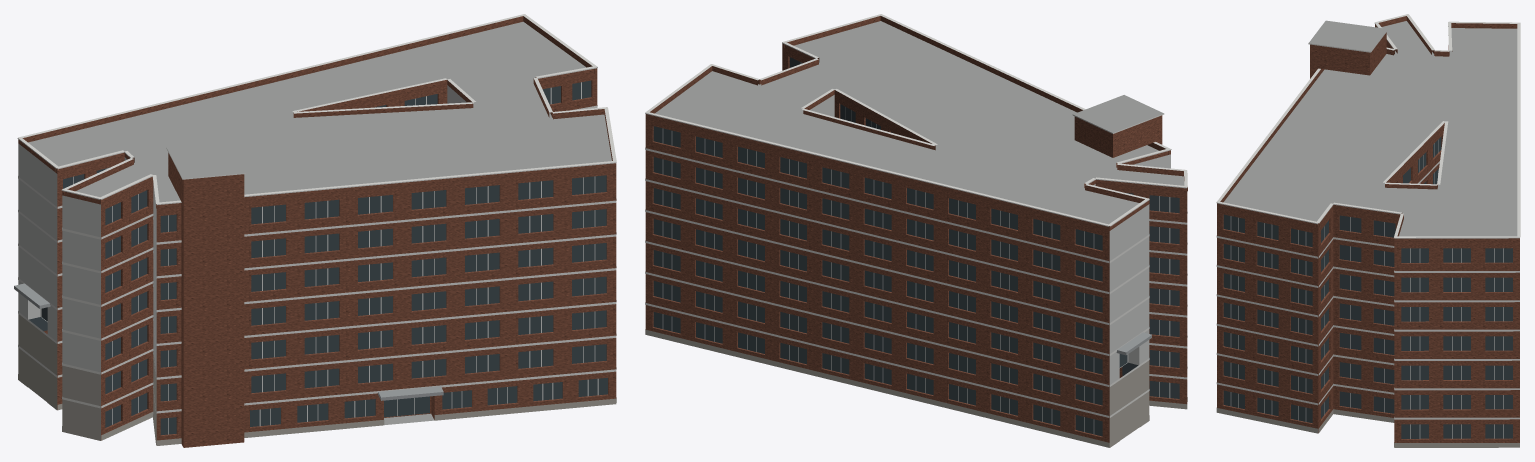
3 renders of one model, left to right at view 1: azimuth 30°, elevation 25°; view 2: azimuth 150°, elevation 25°; view 3: azimuth 270°, elevation 25°, orthographic. The views are drawn at different scales.
Parts seen in each view (by area): view 1: surim__wall, surim__roof, surim__glass, surim__trim, surim__greyBay, surim__parapet, surim__base, surim__frame, surim__canopy; view 2: surim__wall, surim__roof, surim__glass, surim__trim, surim__parapet, surim__greyBay, surim__base, surim__frame; view 3: surim__wall, surim__roof, surim__glass, surim__trim, surim__parapet, surim__frame, surim__base.
Boxes of the visible parts, x1,y1,x2,y2 form: surim__wall: (44,72,616,447); surim__roof: (28,21,611,424); surim__glass: (29,80,607,435); surim__trim: (17,14,616,413); surim__greyBay: (18,85,466,377); surim__parapet: (18,16,616,209); surim__base: (18,314,616,445); surim__frame: (73,82,598,434); surim__canopy: (14,283,443,400); surim__wall: (645,47,1187,442); surim__roof: (655,21,1184,224); surim__glass: (653,57,1179,436); surim__trim: (645,14,1187,417); surim__parapet: (645,16,1187,230); surim__greyBay: (809,95,1170,385); surim__base: (645,329,1187,447); surim__frame: (662,62,1170,434); surim__wall: (1217,32,1519,442); surim__roof: (1223,20,1517,236); surim__glass: (1223,137,1512,438); surim__trim: (1216,14,1520,419); surim__parapet: (1217,16,1519,242); surim__frame: (1230,140,1503,438); surim__base: (1216,407,1519,447).
Bounding box in the file's own units: 58.92 × 28.8 × 33.83.
10 materials, 2 textured.
